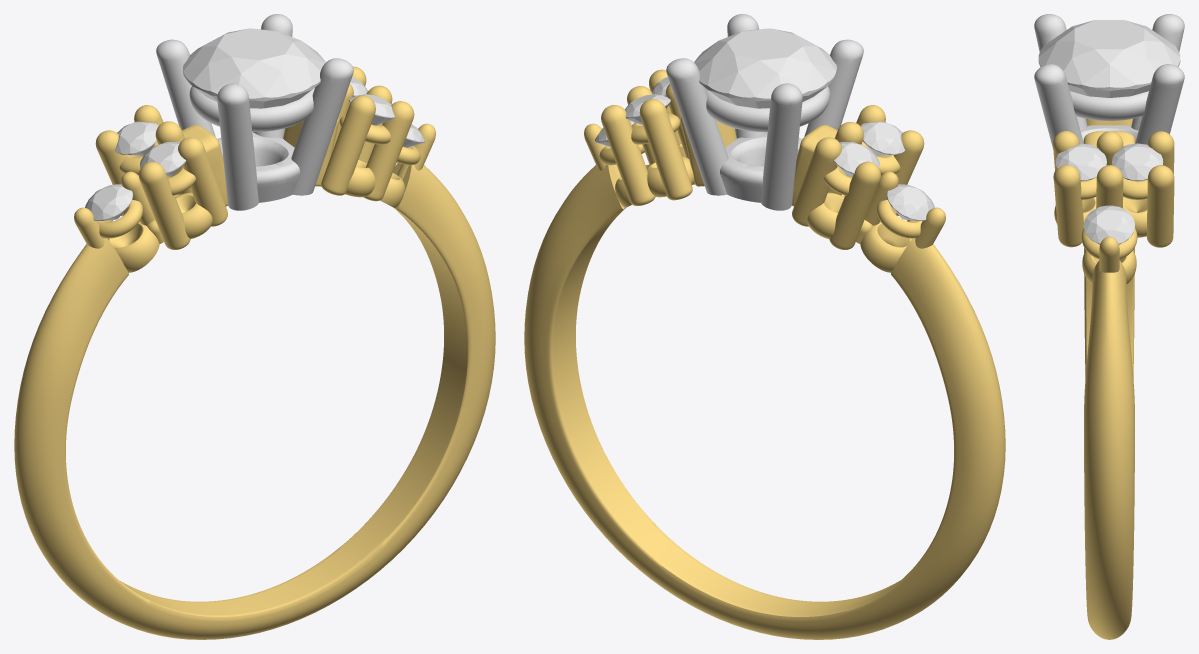
File: Barbara_PT_head_blender.glb
3 renders of one model, left to right at view 1: azimuth 30°, elevation 25°; view 2: azimuth 150°, elevation 25°; view 3: azimuth 270°, elevation 25°, orthographic.
Visible parts, largest first — view 1: Barbara YG for 3d model, Barbara PT for 3d model, Barbara dia for 3d model.004, Barbara dia for 3d model.006, Barbara dia for 3d model.003, Barbara dia for 3d model.005; view 2: Barbara YG for 3d model, Barbara PT for 3d model, Barbara dia for 3d model.004, Barbara dia for 3d model.006, Barbara dia for 3d model.005, Barbara dia for 3d model.003; view 3: Barbara YG for 3d model, Barbara PT for 3d model, Barbara dia for 3d model.004, Barbara dia for 3d model.002, Barbara dia for 3d model, Barbara dia for 3d model.001.
Part boxes in pixels (x1,y1,x2,y2): Barbara YG for 3d model: [14, 66, 495, 639]; Barbara PT for 3d model: [156, 14, 353, 210]; Barbara dia for 3d model.004: [183, 28, 325, 108]; Barbara dia for 3d model.006: [85, 184, 132, 220]; Barbara dia for 3d model.003: [114, 121, 158, 155]; Barbara dia for 3d model.005: [140, 142, 186, 176]; Barbara YG for 3d model: [524, 69, 1005, 639]; Barbara PT for 3d model: [666, 14, 863, 210]; Barbara dia for 3d model.004: [694, 28, 836, 108]; Barbara dia for 3d model.006: [887, 184, 934, 220]; Barbara dia for 3d model.005: [861, 121, 905, 155]; Barbara dia for 3d model.003: [833, 142, 879, 176]; Barbara YG for 3d model: [1053, 119, 1174, 639]; Barbara PT for 3d model: [1034, 14, 1184, 148]; Barbara dia for 3d model.004: [1038, 20, 1180, 97]; Barbara dia for 3d model.002: [1084, 205, 1134, 244]; Barbara dia for 3d model: [1112, 143, 1163, 181]; Barbara dia for 3d model.001: [1055, 143, 1106, 181].
Size of the model in its own units: 19.1 by 22.5 by 5.3.
